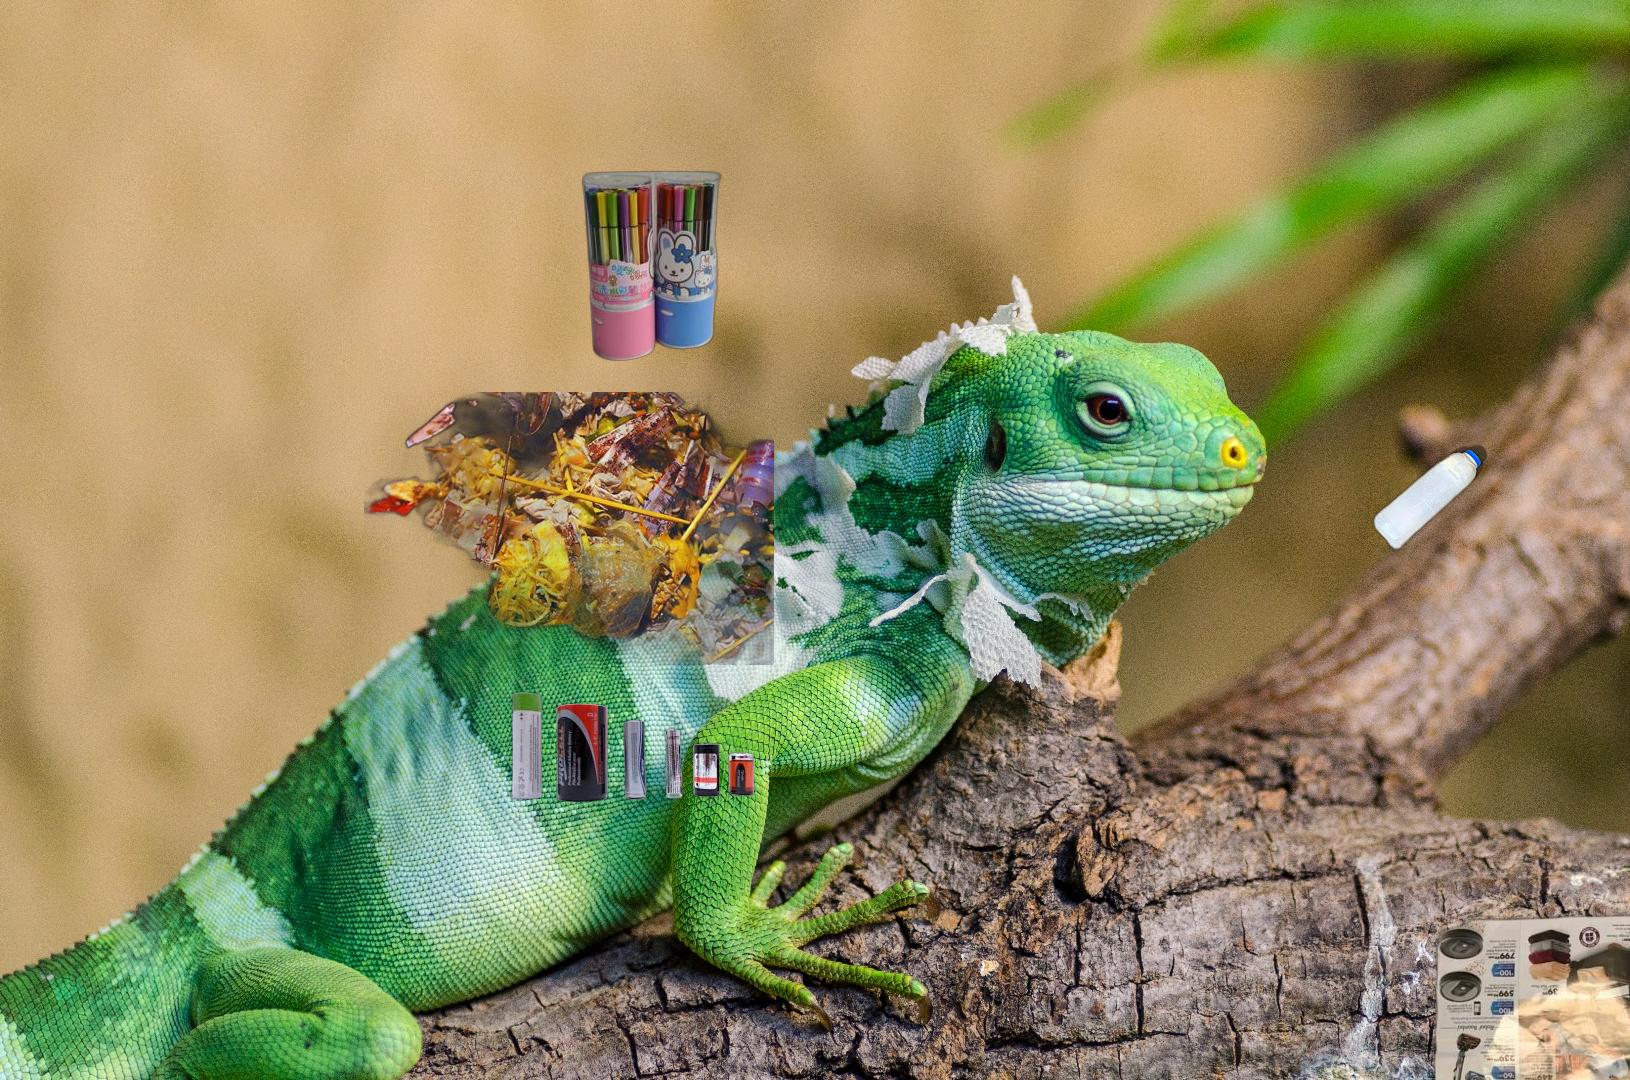battery: (507, 689, 755, 805)
biological: (364, 392, 773, 665)
paper: (1430, 911, 1630, 1080)
penholder: (579, 168, 724, 363)
plastic-bottles: (1370, 439, 1491, 630)
